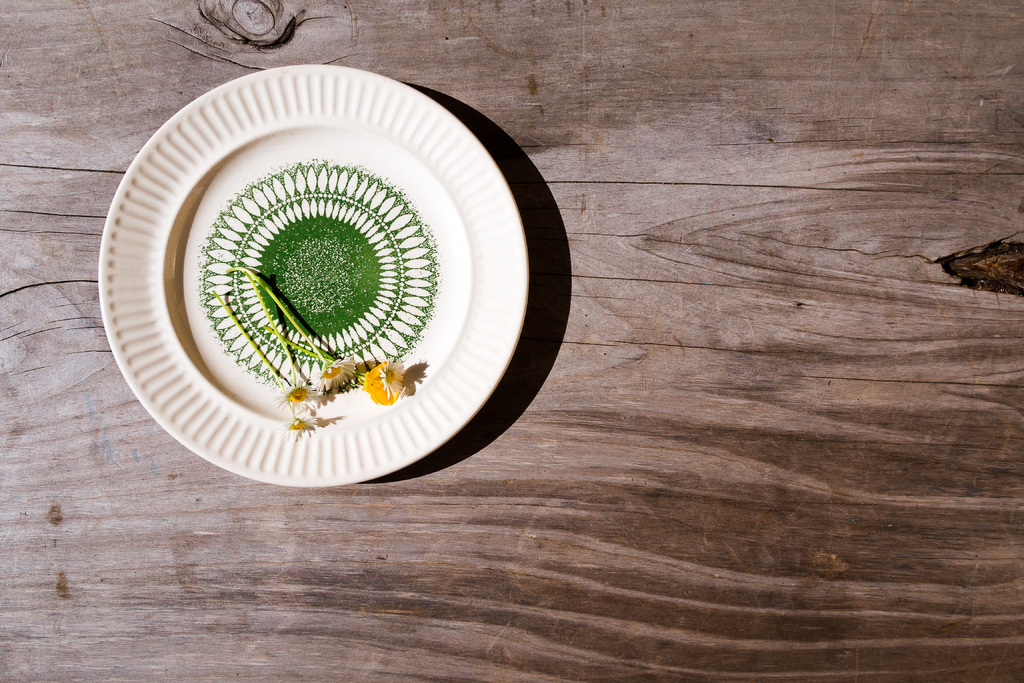plate: (98, 62, 528, 488)
